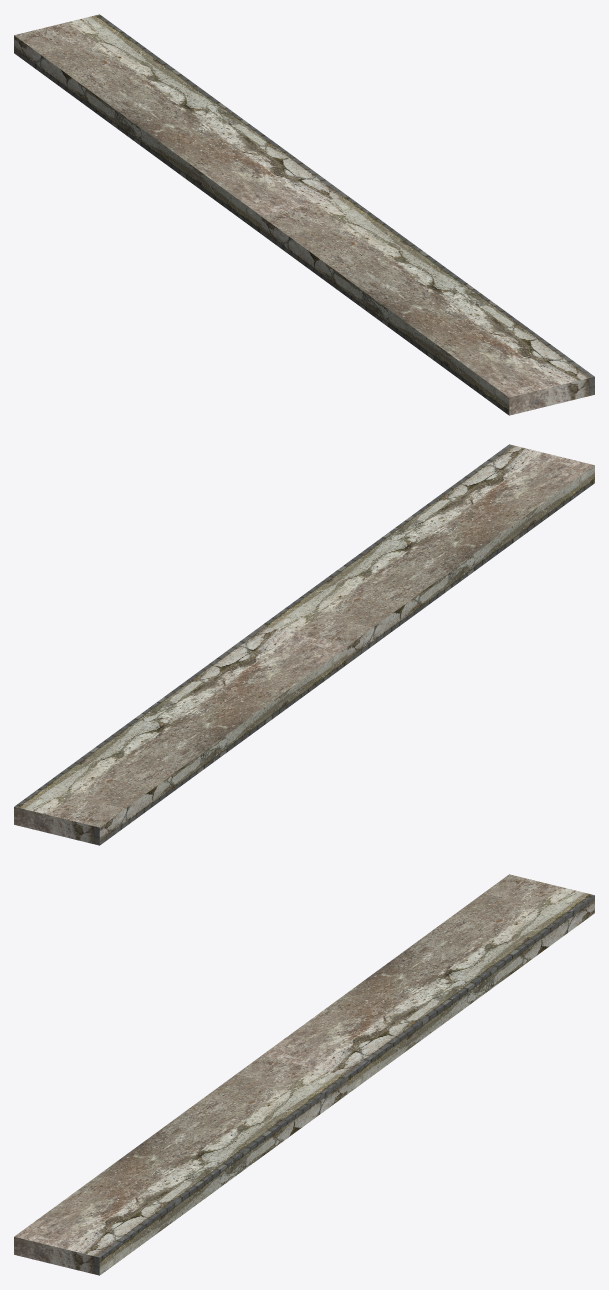
The model's file is quai.fbx.
3 renders of one model, top to bottom at view 1: azimuth 30°, elevation 25°; view 2: azimuth 150°, elevation 25°; view 3: azimuth 330°, elevation 25°, orthographic.
Visible parts, largest first — view 1: Gare_quai; view 2: Gare_quai; view 3: Gare_quai.
Boxes of the visible parts, box(x1,y1,x2,y2) form: Gare_quai: box(14, 14, 594, 415); Gare_quai: box(14, 444, 594, 845); Gare_quai: box(14, 874, 594, 1275).
Size of the model in its own units: 20 by 4 by 200.
Materials: 1 (1 with a texture image).
